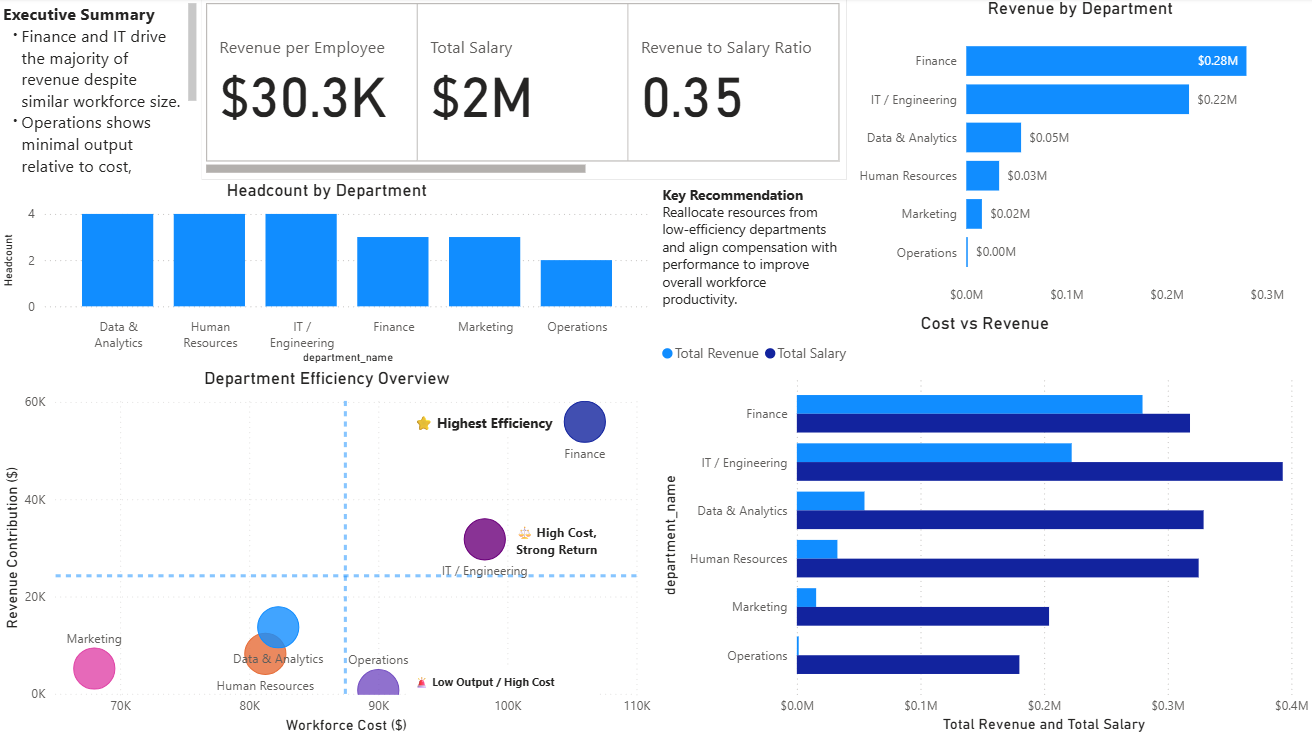

The page's visual inventory and layout, read from the dashboard file:
{"tool":"powerbi","page":{"name":"Executive Overview","canvas":[1280,720],"ordinal":0},"visuals":[{"type":"clusteredBarChart","title":"Revenue by Department","fields":{"Y":["sales.Total Revenue"],"Category":["departments.department_name"]},"box":[825.8,0,454.2,306.4],"z":0},{"type":"cardVisual","fields":{"Data":["attendance.Revenue per Employee","attendance.Total Salary","attendance.Revenue to Salary Ratio","performance.Avg Performance","attendance.Zero Revenue Employees"]},"box":[197.4,0,628.3,177],"z":1000},{"type":"clusteredBarChart","title":"Cost vs Revenue","fields":{"Category":["departments.department_name"],"Y":["sales.Total Revenue","attendance.Total Salary"]},"box":[640,306.7,640,413.3],"z":2000},{"type":"scatterChart","title":"Department Efficiency Overview","fields":{"X":["Avg(employees.salary)"],"Y":["Avg(sales.revenue)"],"Size":["Avg(performance.performance_score)"],"Category":["departments.department_name"],"Series":["departments.department_name"]},"box":[0,359.9,640,359.9],"z":3000},{"type":"actionButton","box":[0,0,100,40],"z":4000},{"type":"textbox","box":[0,0,197.8,176.7],"z":5000},{"type":"textbox","box":[641.1,176.7,184.4,130],"z":6000},{"type":"clusteredColumnChart","title":"Headcount by Department","fields":{"Category":["departments.department_name"],"Y":["employees.Headcount"]},"box":[0,177,640,182.9],"z":7000},{"type":"textbox","box":[399.8,398.8,145.9,27.2],"z":8000},{"type":"textbox","box":[399.8,649.7,181.9,29.2],"z":9000},{"type":"textbox","box":[499,504.8,112.8,43.8],"z":10000}]}

Visuals, with their boxes in screenshot pixels (x1, y1, x2, y2), scaled from the page's 1280x720 canvas onto the 1312x733 screenshot:
"Revenue by Department" clusteredBarChart: (846,0,1311,312)
cardVisual - attendance.Revenue per Employee x attendance.Total Salary: (202,0,846,180)
"Cost vs Revenue" clusteredBarChart: (656,312,1311,732)
"Department Efficiency Overview" scatterChart: (0,366,656,732)
actionButton: (0,0,102,41)
textbox: (0,0,203,180)
textbox: (657,180,846,312)
"Headcount by Department" clusteredColumnChart: (0,180,656,366)
textbox: (410,406,559,434)
textbox: (410,661,596,691)
textbox: (511,514,627,559)
